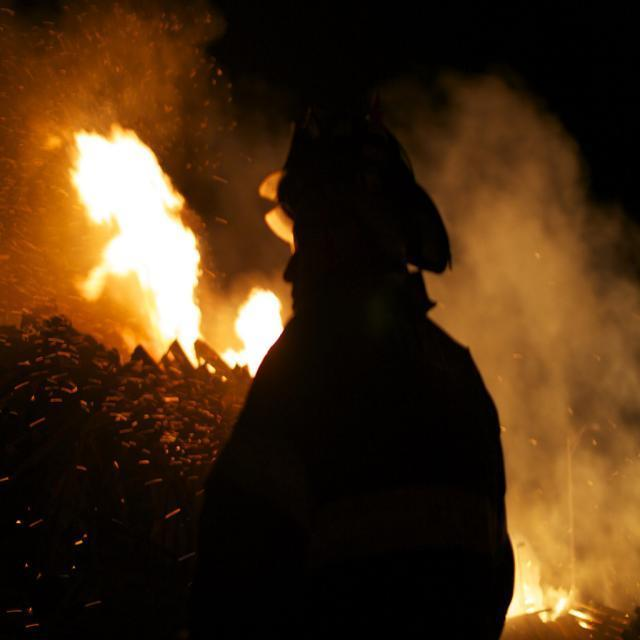Fire: (54, 114, 202, 362), (224, 283, 285, 367)
Smoke: (415, 86, 640, 636)
